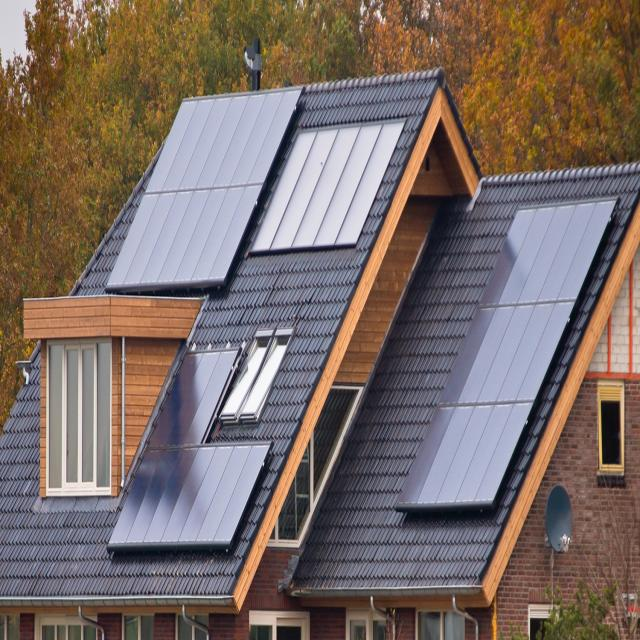clean-solar-panel: (399, 200, 615, 509), (108, 90, 301, 292), (109, 445, 270, 549), (149, 352, 238, 447)
